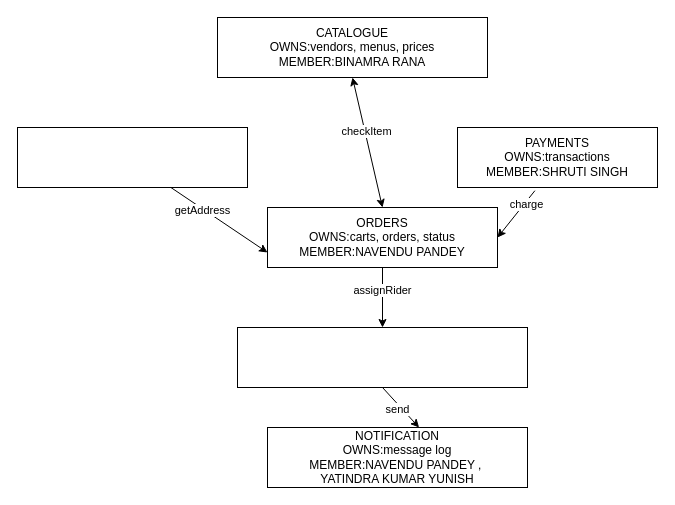
This 675x505 diagram has some shape labels left out. Each missing label, with the centre of its shape:
ACCOUNT OWNS:users, addresses, login MEMBER:ABHISHEK KUMAR: (x=132, y=157)
DELIVERY OWNS: riders, assignments MEMBER:YATINDRA KUMAR YUNISH: (x=382, y=357)
